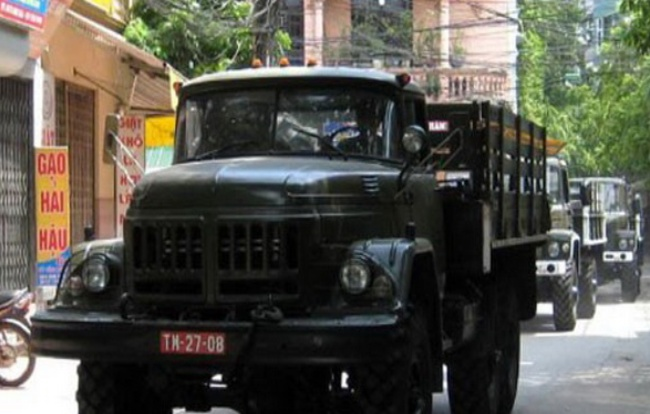plate: (157, 329, 227, 359)
